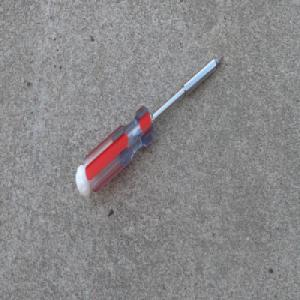Screwdriver: (73, 53, 224, 201)
